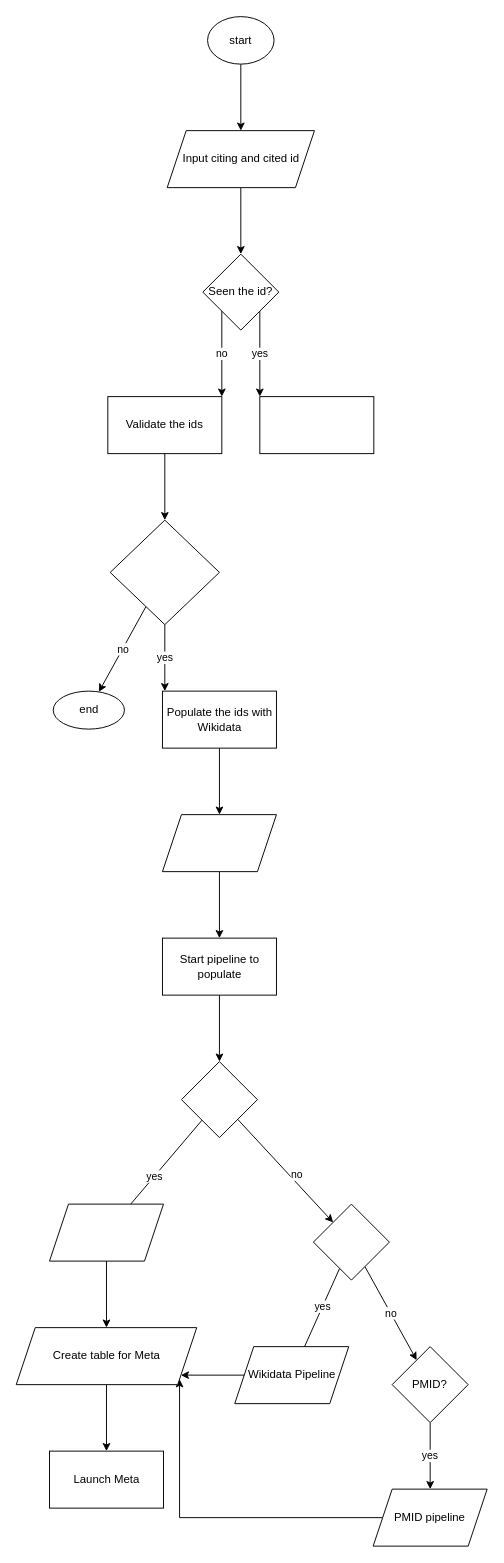
This 504x1563 diagram has some shape labels left out. The shapes that lost their labels are listed below. From the top down, each one's centre as x and y in pixels, then its label:
At pixel 316 425: "Get the position of seen ids. Don't repeat the process".
At pixel 164 572: "1 valid id for citing and cited?".
At pixel 219 843: "Cache the seen id".
At pixel 218 1099: "DOI?".
At pixel 106 1232: "Crossref Pipeline".
At pixel 350 1241: "WD?".
